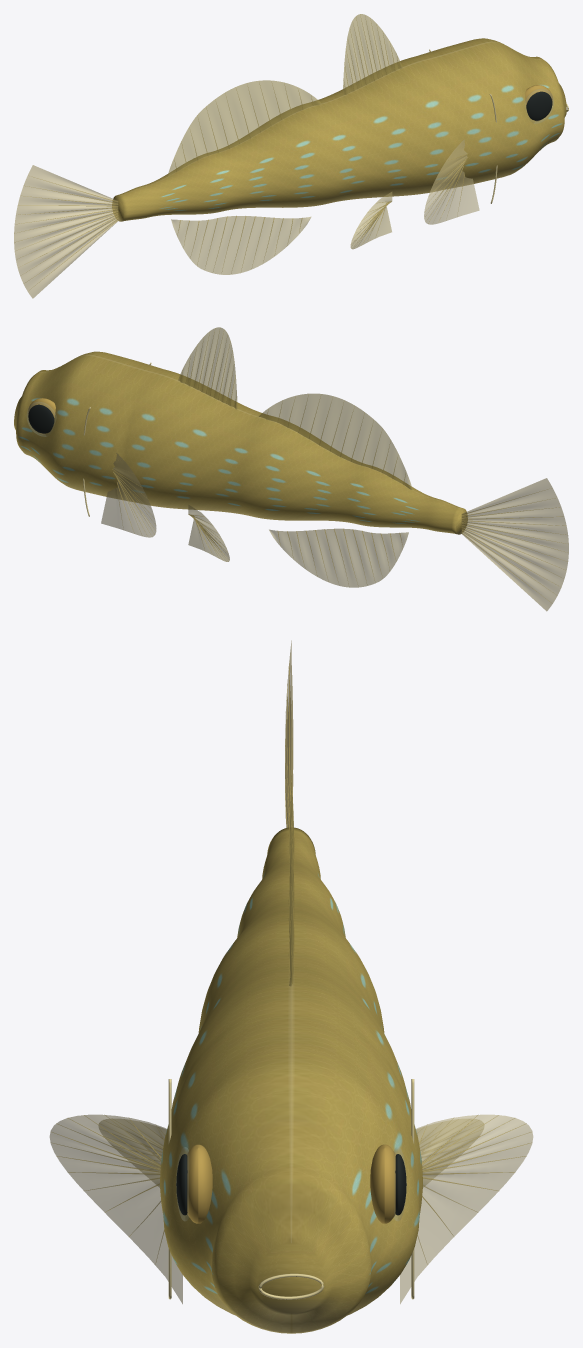
The model's file is goby-desktop.glb.
The picture shows the model from 3 angles, top to bottom: view 1: azimuth 30°, elevation 25°; view 2: azimuth 150°, elevation 25°; view 3: azimuth 270°, elevation 25°; orthographic projection. The views are drawn at different scales.
Parts seen in each view (by area): view 1: skin, dorsal, tail, anal, dorsal-ray, pectoral-left, pelvic-left, eye-pupil--1; view 2: skin, dorsal, tail, anal, dorsal-ray, pectoral-left, pelvic-left, eye-pupil--1; view 3: skin, pectoral-left, dorsal-ray, pelvic-left, eye-iris--1, operculum, eye-pupil--1, tail, dorsal.
Boxes of the visible parts, <box> form: skin: <box>112,38,566,221</box>; dorsal: <box>167,14,402,176</box>; tail: <box>14,165,118,298</box>; anal: <box>171,216,310,274</box>; dorsal-ray: <box>15,14,467,284</box>; pectoral-left: <box>424,140,479,224</box>; pelvic-left: <box>350,192,392,249</box>; eye-pupil--1: <box>526,91,552,120</box>; skin: <box>14,351,467,534</box>; dorsal: <box>178,327,412,489</box>; tail: <box>461,478,568,611</box>; anal: <box>269,528,408,587</box>; dorsal-ray: <box>112,330,565,601</box>; pectoral-left: <box>101,453,156,537</box>; pelvic-left: <box>188,505,229,561</box>; eye-pupil--1: <box>28,404,54,433</box>; skin: <box>160,827,422,1333</box>; pectoral-left: <box>49,1114,533,1303</box>; dorsal-ray: <box>50,661,531,1262</box>; pelvic-left: <box>99,1119,483,1187</box>; eye-iris--1: <box>187,1144,395,1223</box>; operculum: <box>168,1079,414,1299</box>; eye-pupil--1: <box>176,1154,406,1215</box>; tail: <box>285,640,293,827</box>; dorsal: <box>289,775,293,986</box>.
Bounding box in the file's own units: 0.5912 × 0.2368 × 0.2261.
Materials: 11 (1 with a texture image).
